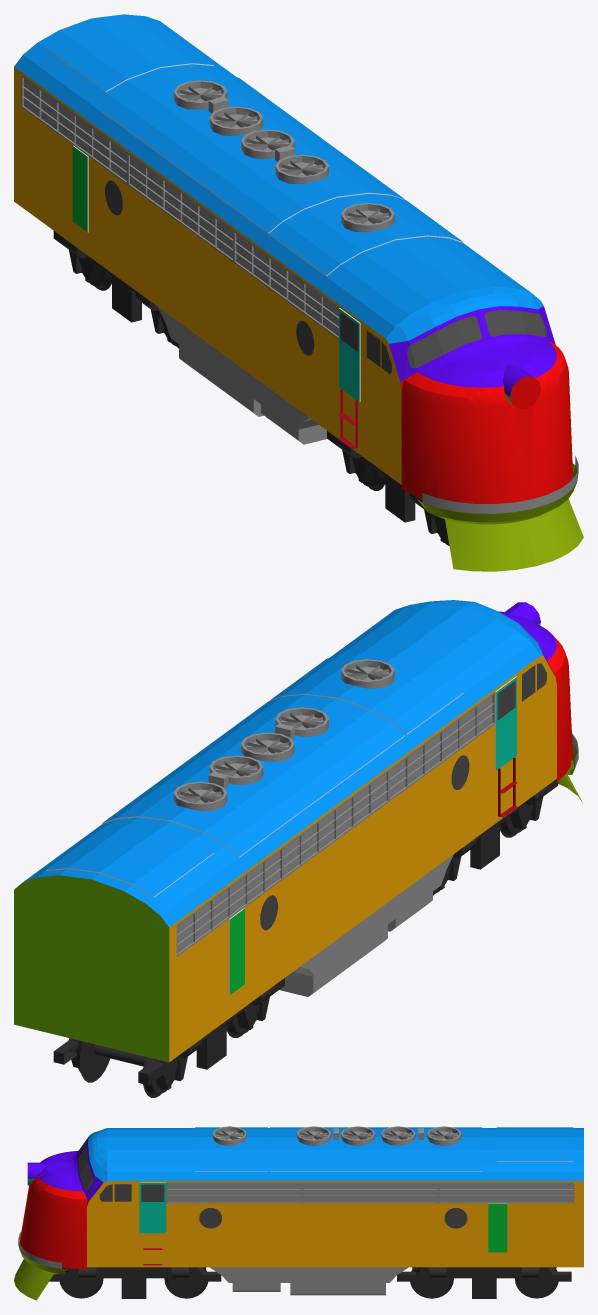
3 views of the same model, one above another, from view 1: azimuth 30°, elevation 25°; view 2: azimuth 150°, elevation 25°; view 3: azimuth 270°, elevation 25° (orthographic). The views are drawn at different scales.
Visible parts, largest first — view 1: body_half (×21), side-grid (×3), bogie-mechanism-half (×4); view 2: body_half (×16), side-grid (×3), bogie-mechanism-half (×4), fan (×3), wheel_half; view 3: body_half (×22), side-grid (×6), bogie-mechanism-half (×4), fan (×5), wheel_half (×2).
Part boxes in pixels (x1,y1,x2,y2): body_half (×21): [14, 14, 583, 571]; side-grid (×3): [22, 77, 338, 337]; bogie-mechanism-half (×4): [53, 231, 448, 542]; body_half (×16): [14, 600, 572, 1062]; side-grid (×3): [177, 694, 494, 954]; bogie-mechanism-half (×4): [138, 779, 558, 1089]; fan (×3): [173, 659, 394, 811]; wheel_half: [76, 1041, 108, 1079]; body_half (×22): [14, 1127, 583, 1300]; side-grid (×6): [166, 1182, 574, 1203]; bogie-mechanism-half (×4): [49, 1267, 571, 1298]; fan (×5): [212, 1126, 461, 1145]; wheel_half (×2): [166, 1267, 556, 1296].
Bounding box in the file's own units: 126 × 586 × 179.
